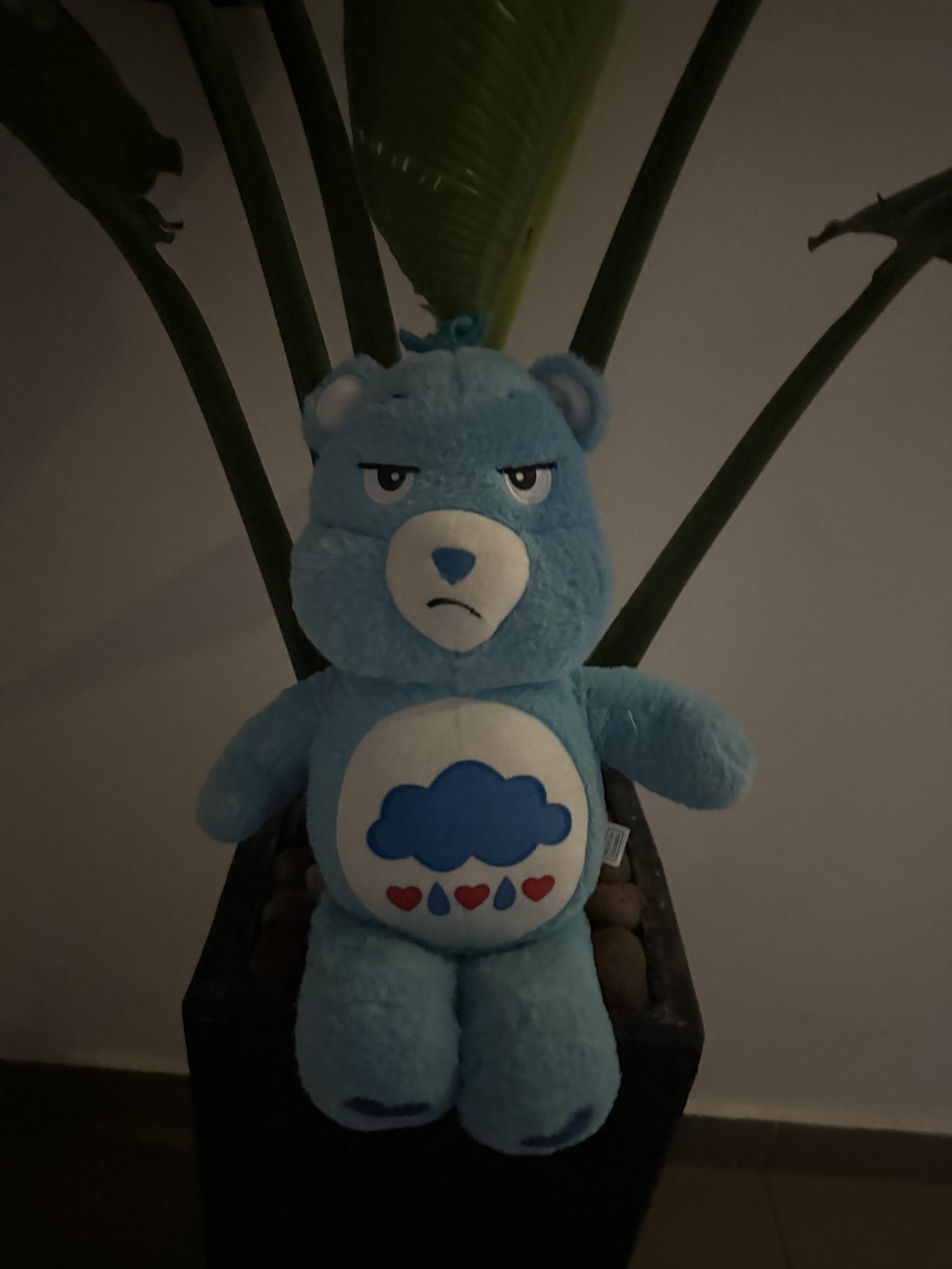peluche_Juan Jose: (184, 313, 760, 1169)
